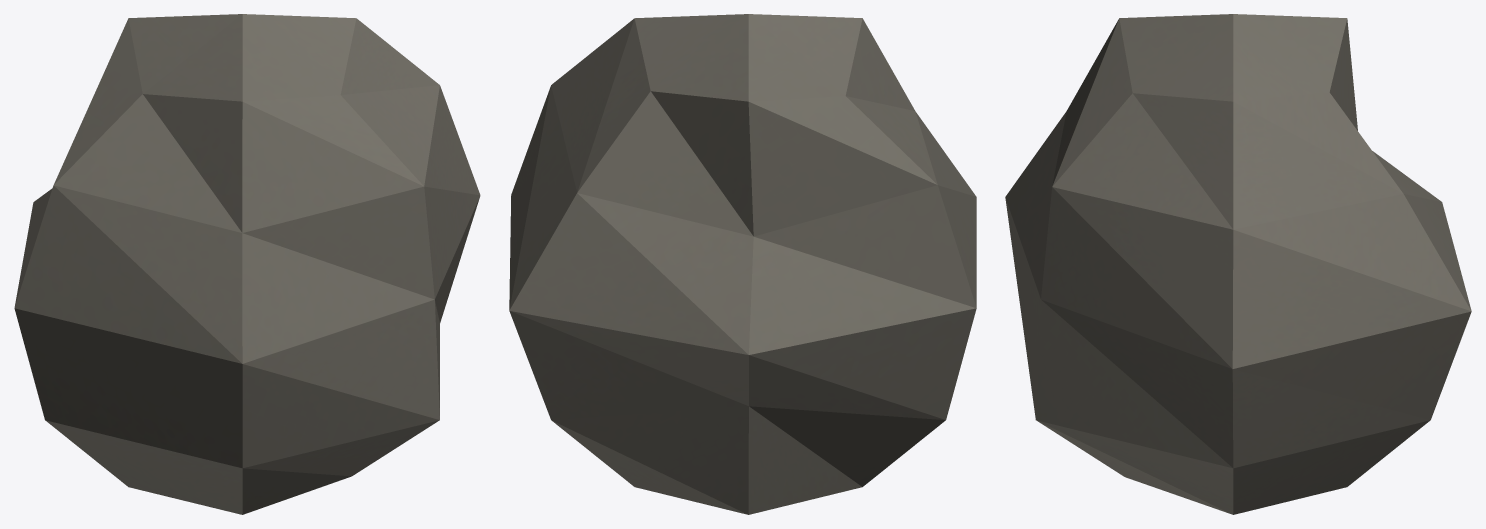
Rendered from Rock_Single_2E.fbx.
The picture shows the model from 3 angles, left to right: view 1: azimuth 30°, elevation 25°; view 2: azimuth 150°, elevation 25°; view 3: azimuth 270°, elevation 25°; orthographic projection.
Visible parts, largest first — view 1: pSphere7; view 2: pSphere7; view 3: pSphere7.
Boxes of the visible parts, x1,y1,x2,y2 form: pSphere7: (14,14,480,514); pSphere7: (509,14,976,514); pSphere7: (1005,14,1471,514).
Bounding box in the file's own units: 184 × 174 × 159.
1 material, 1 textured.
